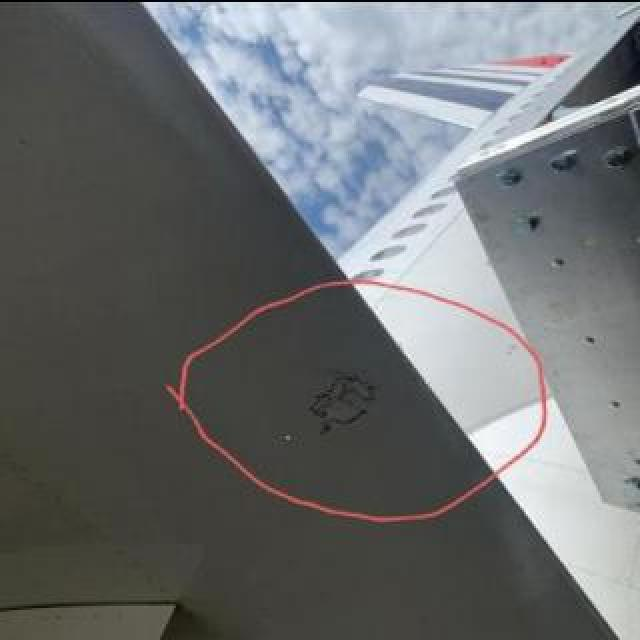crack: (318, 378, 372, 422)
